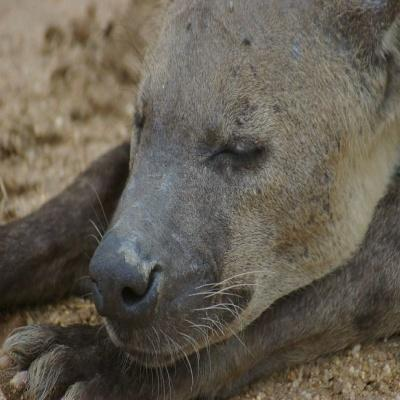hyenas: (2, 0, 400, 392)
